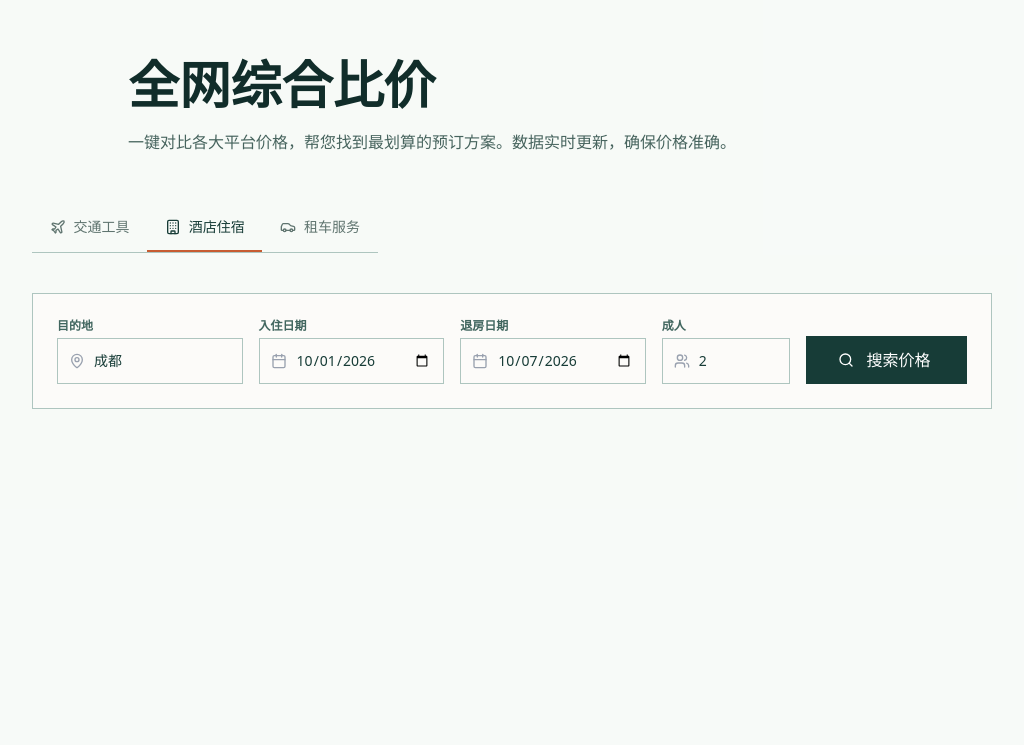
Test: Compare › updates the active category and preserves its local result list
Click the button "交通工具" at (90,228), box [32, 204, 147, 252]
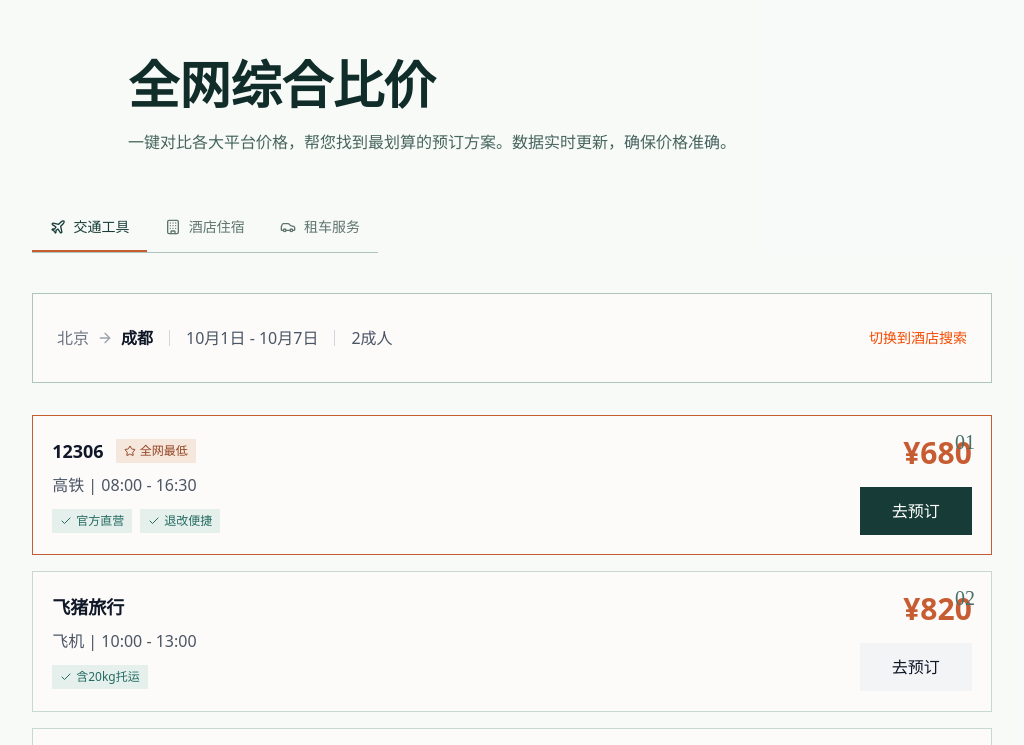
Check: the text "12306" is shown, box [52, 437, 104, 465]
Check: the number of buttons "去预订" is 4
